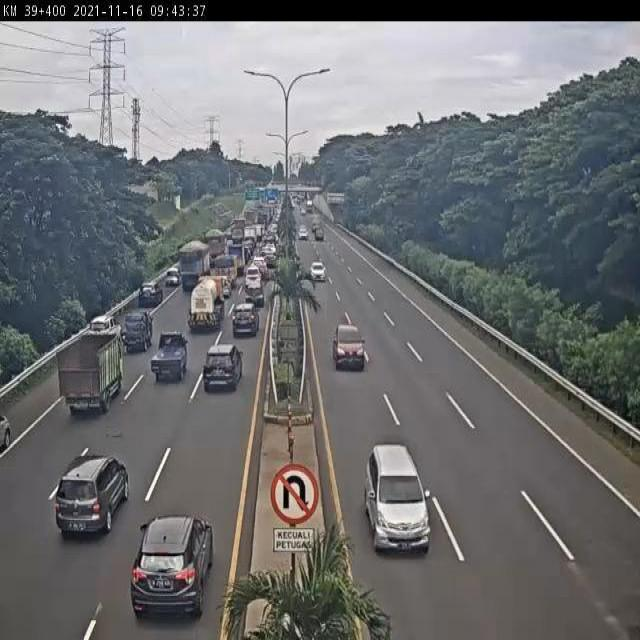car: (126, 509, 220, 624), (47, 445, 133, 556), (366, 447, 431, 552), (84, 297, 127, 351), (148, 332, 191, 385), (201, 342, 244, 394), (331, 324, 367, 372), (121, 308, 155, 355), (229, 300, 262, 343), (136, 280, 165, 308), (243, 284, 266, 311), (162, 265, 183, 291), (244, 264, 262, 291), (213, 274, 233, 298), (306, 250, 323, 274), (250, 255, 268, 276), (263, 251, 279, 268), (312, 224, 322, 239), (297, 224, 307, 237)
small truck: (53, 317, 132, 415), (215, 258, 238, 290), (226, 244, 246, 276)
truck-m-: (188, 275, 225, 337), (176, 240, 213, 291), (203, 227, 229, 261)
